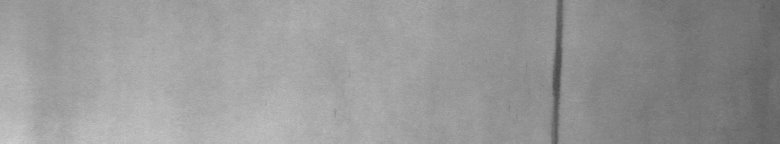hd: (546, 4, 568, 136)
